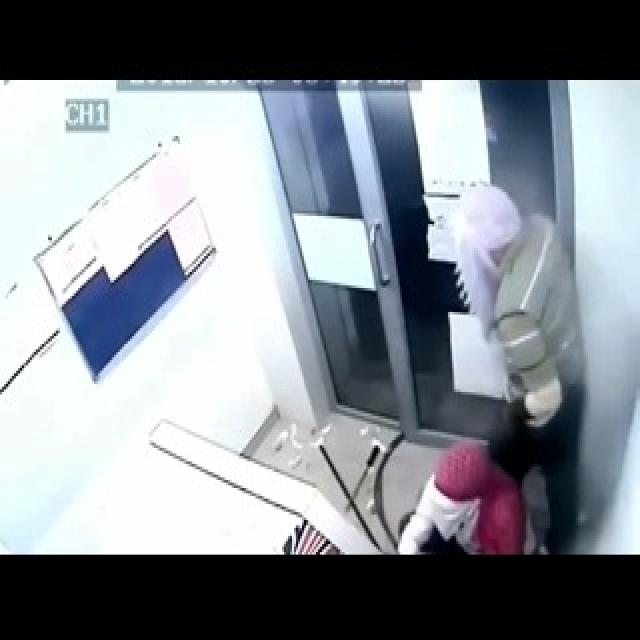thief: (388, 177, 589, 558)
